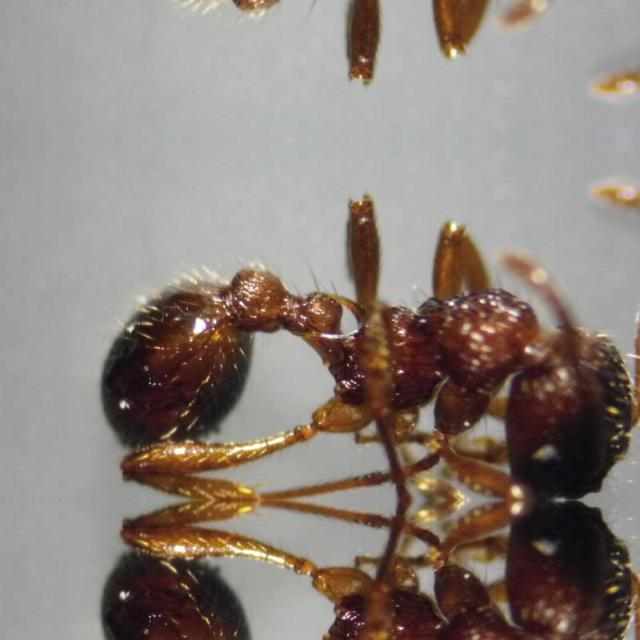Myrmica: (94, 227, 638, 499), (94, 500, 638, 640)
